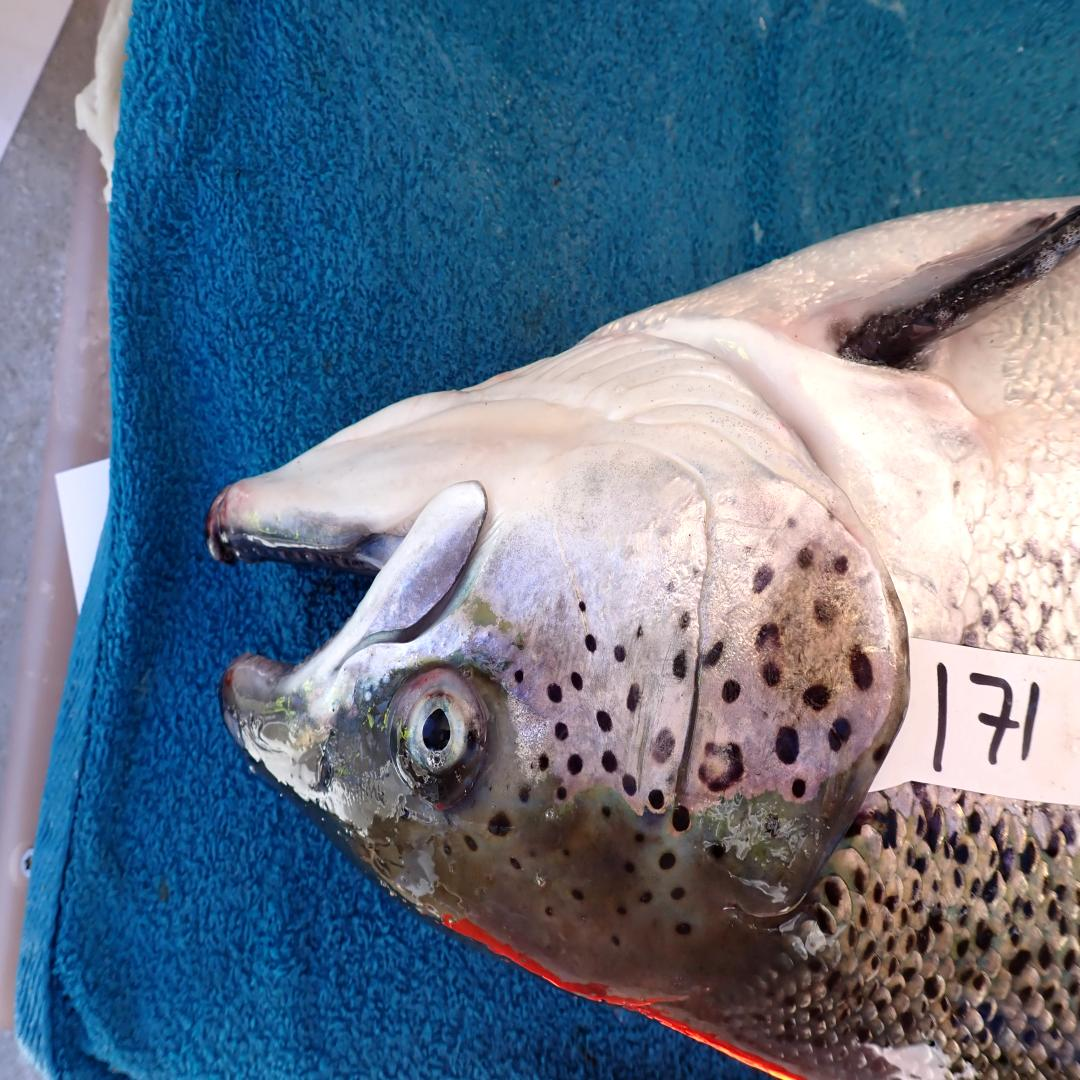roi: (486, 326, 910, 814)
